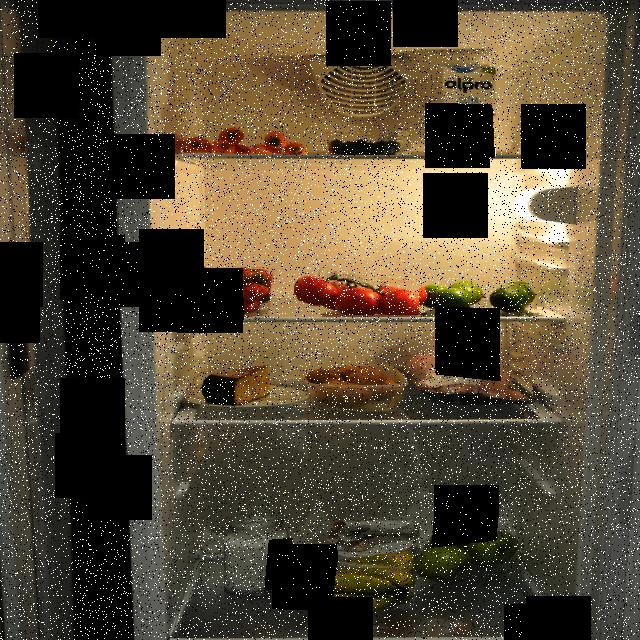apple: (414, 518, 524, 585)
banana: (279, 556, 418, 610)
blueberries: (324, 129, 412, 155)
carrot: (182, 126, 318, 156)
cheese: (202, 364, 276, 406)
chicken: (399, 348, 533, 404)
flour: (330, 516, 432, 572)
lime: (419, 281, 537, 313)
milk: (438, 58, 496, 158)
potato: (302, 358, 402, 412)
strawberries: (184, 264, 276, 320)
sugar: (224, 507, 296, 598)
tomato: (294, 269, 430, 315)
